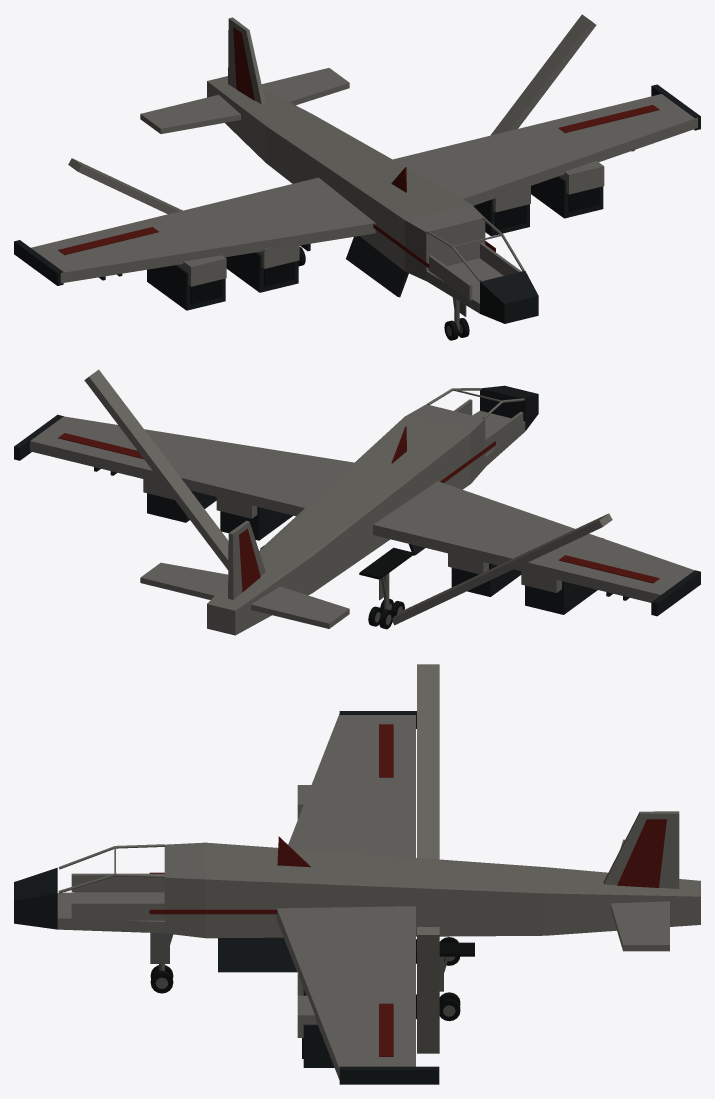
3 views of the same model, one above another, from view 1: azimuth 30°, elevation 25°; view 2: azimuth 150°, elevation 25°; view 3: azimuth 270°, elevation 25° (orthographic). The views are drawn at different scales.
Visible parts, largest first — view 1: bomber-painted, flap-right-painted, flap-left-painted; view 2: bomber-painted, flap-right-painted, flap-left-painted; view 3: bomber-painted, flap-left-painted, flap-right-painted, landing-gear-nose-painted.
Boxes of the visible parts, left/top/right/bottom form: bomber-painted: left=14, top=17, right=700, bottom=323; flap-right-painted: left=490, top=14, right=596, bottom=135; flap-left-painted: left=68, top=158, right=182, bottom=214; bomber-painted: left=14, top=385, right=700, bottom=635; flap-right-painted: left=84, top=369, right=228, bottom=569; flap-left-painted: left=392, top=513, right=612, bottom=625; bomber-painted: left=14, top=711, right=700, bottom=1084; flap-left-painted: left=417, top=664, right=439, bottom=859; flap-right-painted: left=417, top=927, right=439, bottom=1053; landing-gear-nose-painted: left=150, top=933, right=173, bottom=971.
Bounding box in the file's own units: 195 × 56.36 × 158.
